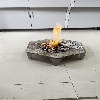fire: (41, 22, 66, 52)
